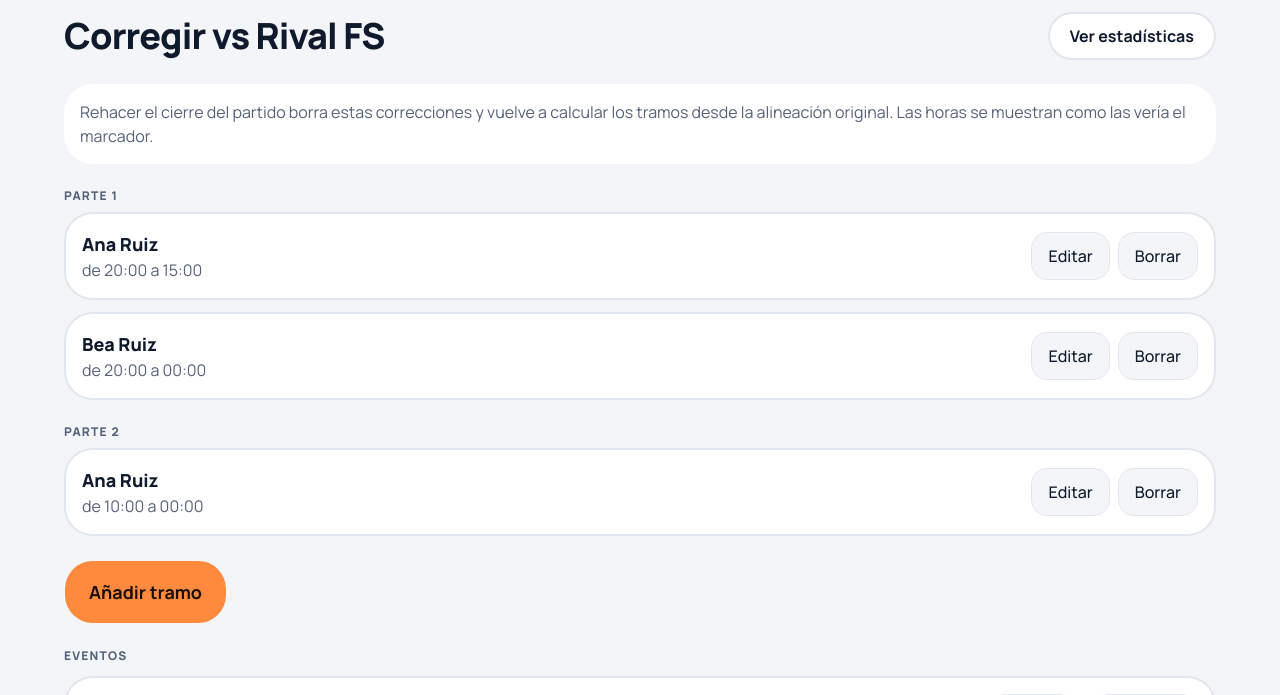
Scenario: CorregirPage › si falla el borrado avisa y deja volver a intentarlo
Expected: the list named "Tramos de la parte 1" is shown, left=64, top=212, right=1216, bottom=400
Click the button with aria-label "Borrar tramo de Ana Ruiz de 20:00 a 15:00": (1158, 256) left=1118, top=232, right=1198, bottom=280
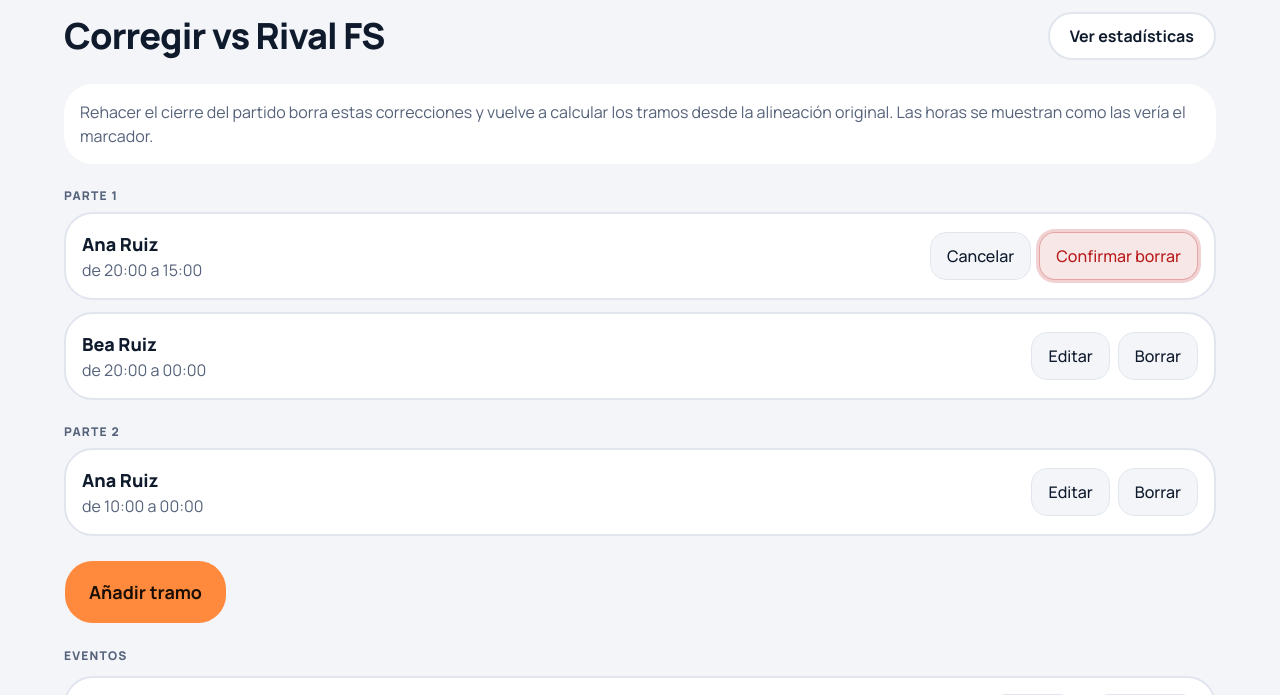
Click the button "Confirmar borrar": (1119, 256) left=1039, top=232, right=1198, bottom=280
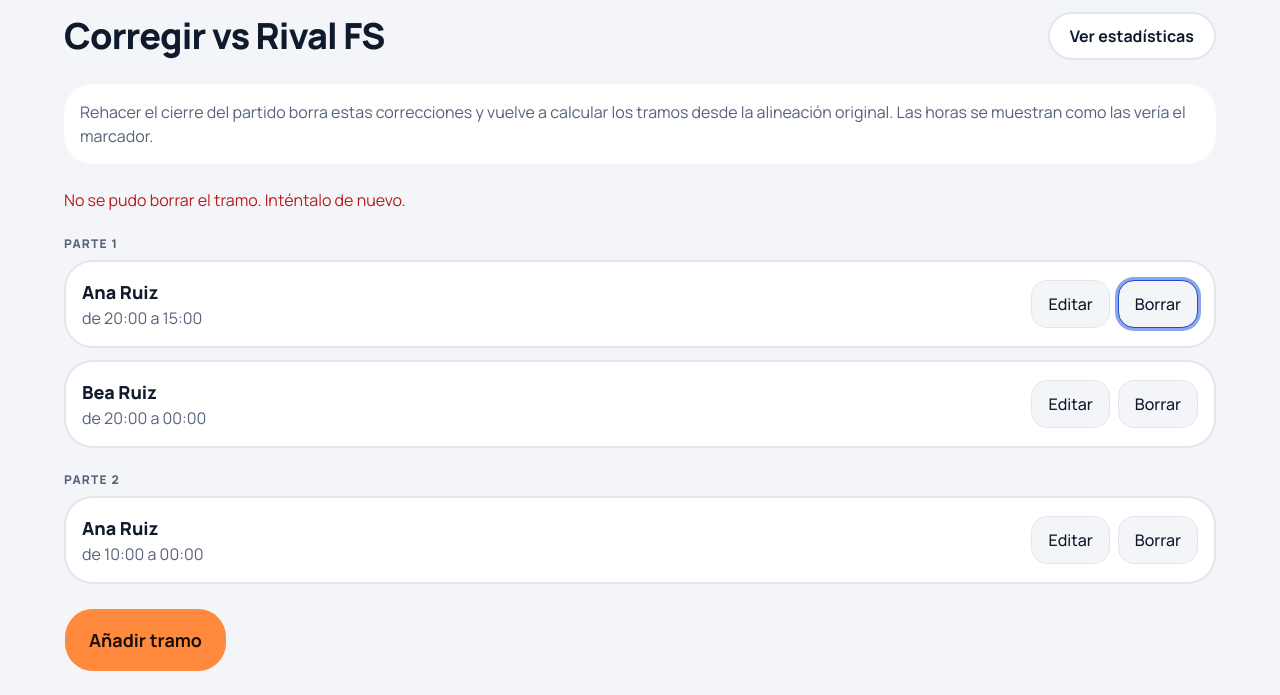
Expected: the message shows "No se pudo borrar el tramo", left=64, top=189, right=406, bottom=211
Expected: the button with aria-label "Borrar tramo de Ana Ruiz de 20:00 a 15:00" is shown, left=1118, top=280, right=1198, bottom=328
